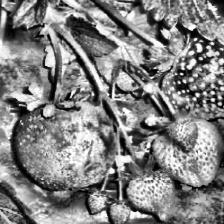Gray Mold: (15, 101, 118, 190)
